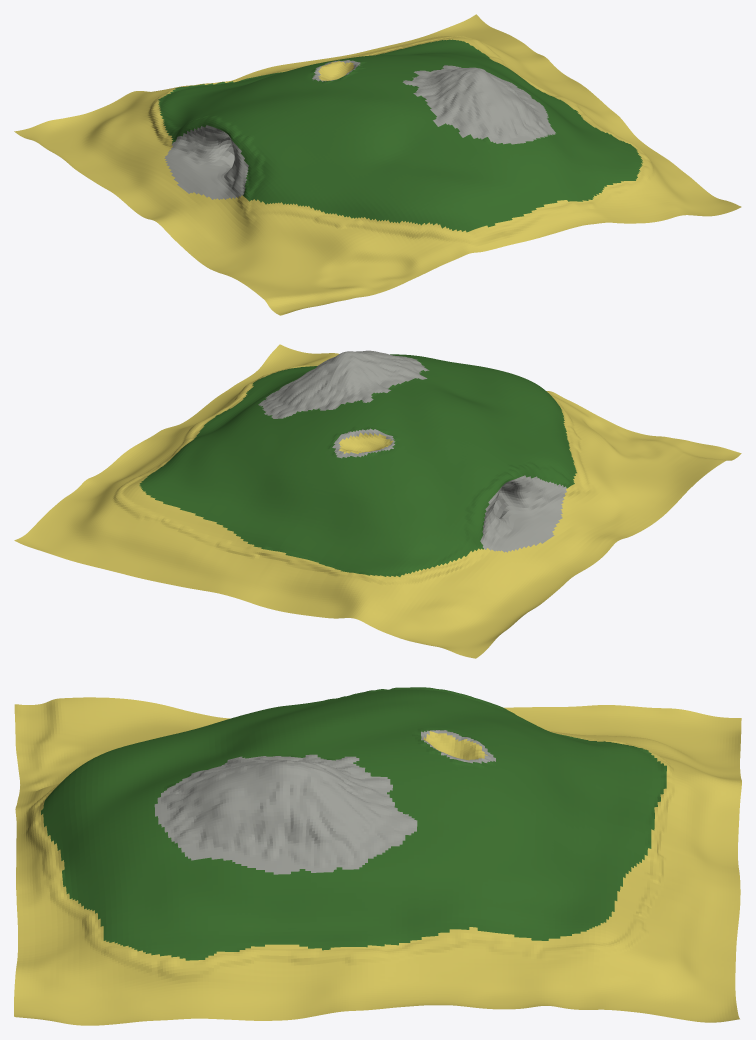
Rendered from island.fbx.
3 renders of one model, top to bottom at view 1: azimuth 30°, elevation 25°; view 2: azimuth 150°, elevation 25°; view 3: azimuth 270°, elevation 25°, orthographic. The views are drawn at different scales.
Parts seen in each view (by area): view 1: Plane; view 2: Plane; view 3: Plane.
Part boxes in pixels (left/top/right/bottom): Plane: left=14, top=14, right=741, bottom=315; Plane: left=14, top=344, right=741, bottom=658; Plane: left=14, top=687, right=741, bottom=1025.
Bounding box in the file's own units: 1257 × 296 × 1253.
